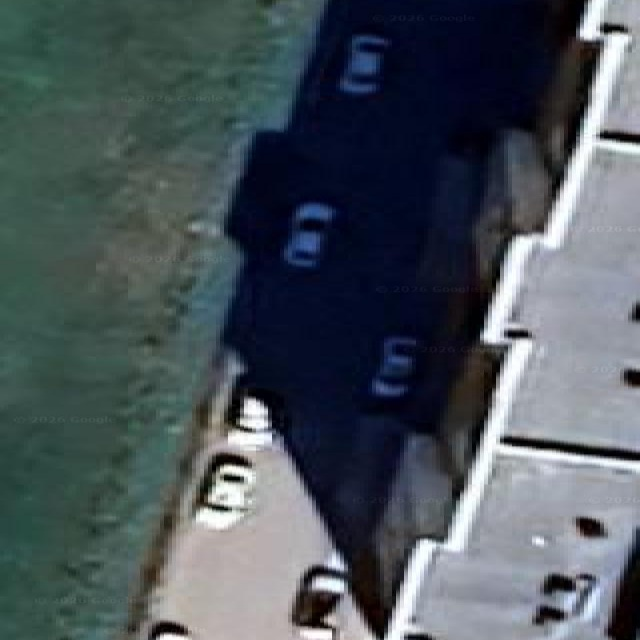car: (195, 453, 255, 529), (292, 567, 346, 639), (533, 573, 600, 626), (283, 201, 333, 267), (339, 33, 387, 95), (372, 335, 416, 399), (227, 396, 272, 447), (148, 620, 190, 639)
